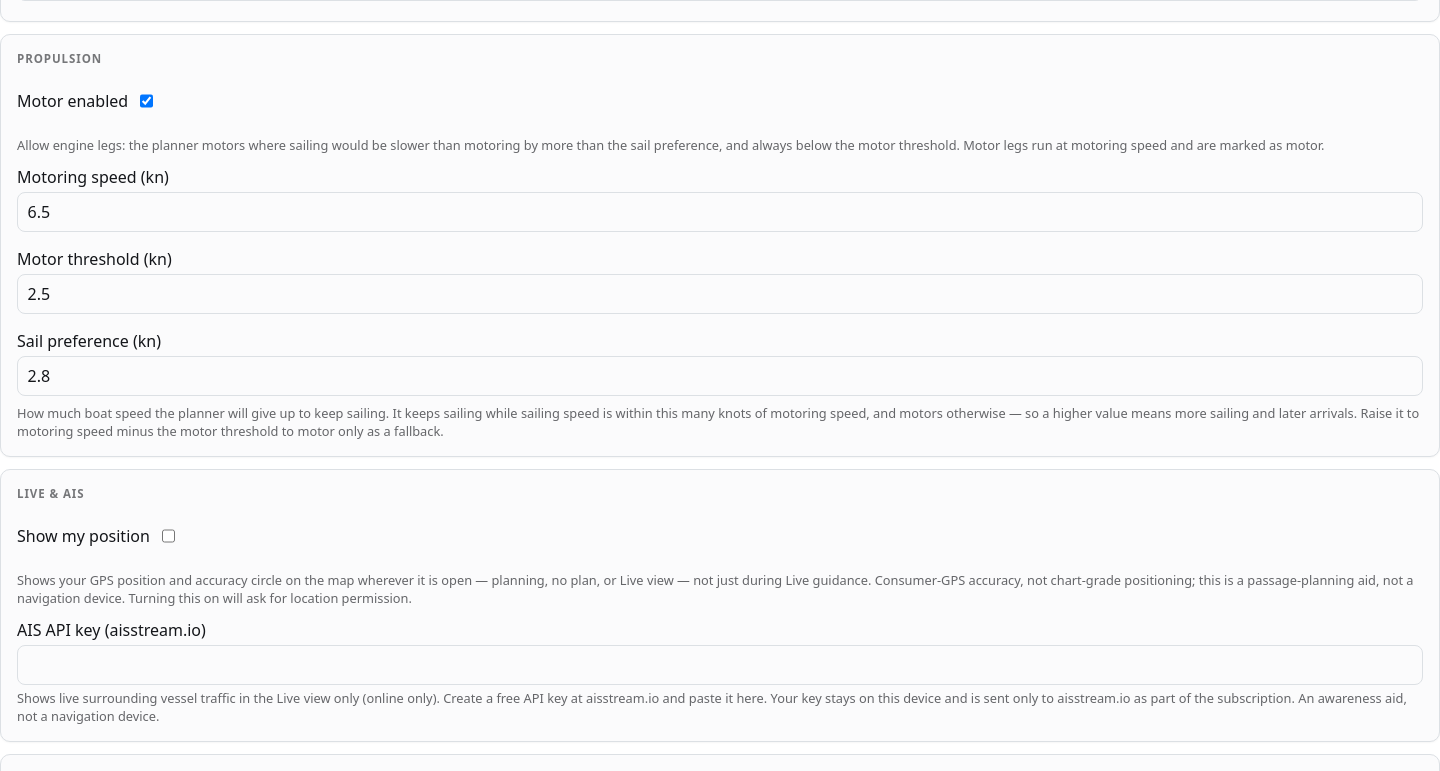
Test: SettingsPanel (#299 Boat tab) › Propulsion group › commits the sail preference on blur and clamps to its 0-10 bounds
(page scrolled)
Replace the text in the number field labelled "Sail preference (kn)" with "1.5": (720,376) [17,356,1423,396]
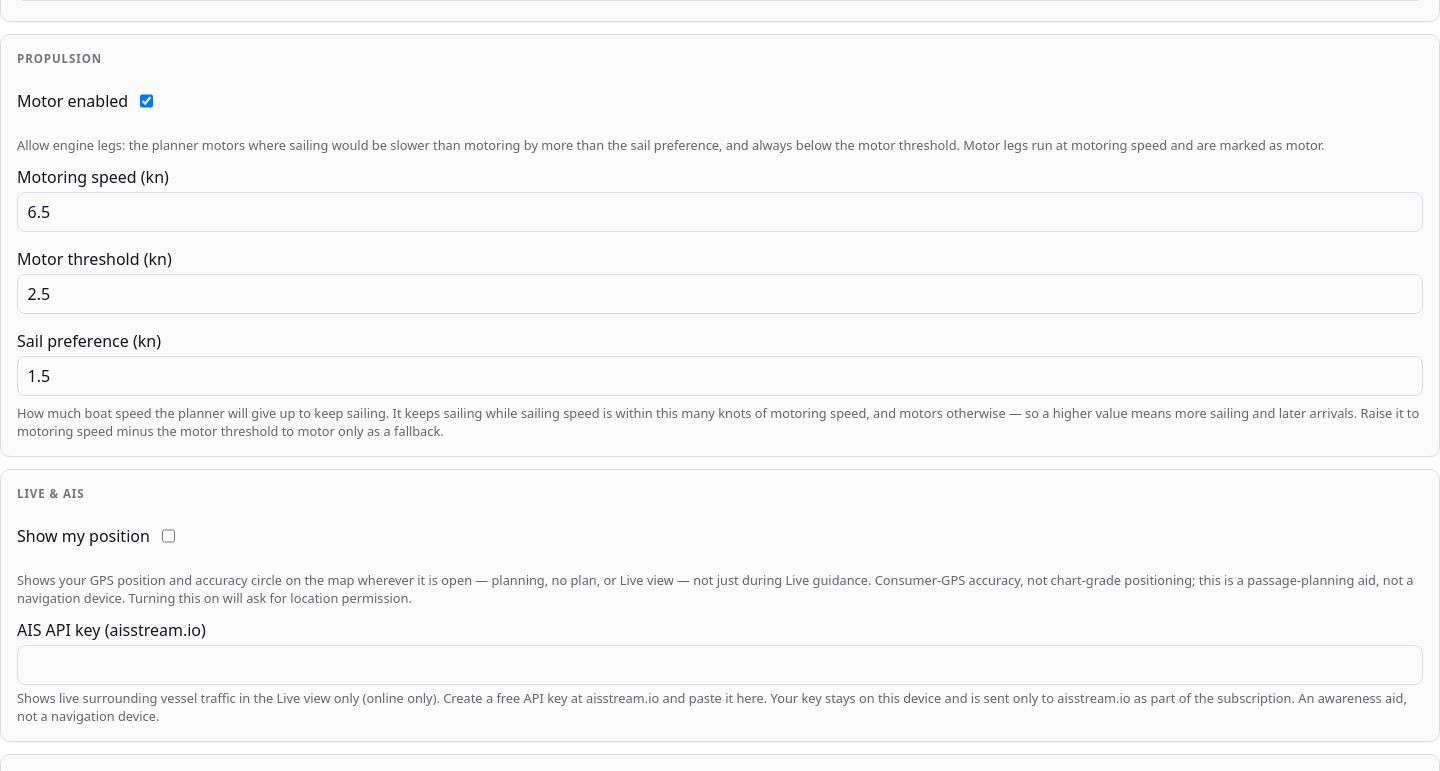
Replace the text in the number field labelled "Sail preference (kn)" with "99": (720,376) [17,356,1423,396]
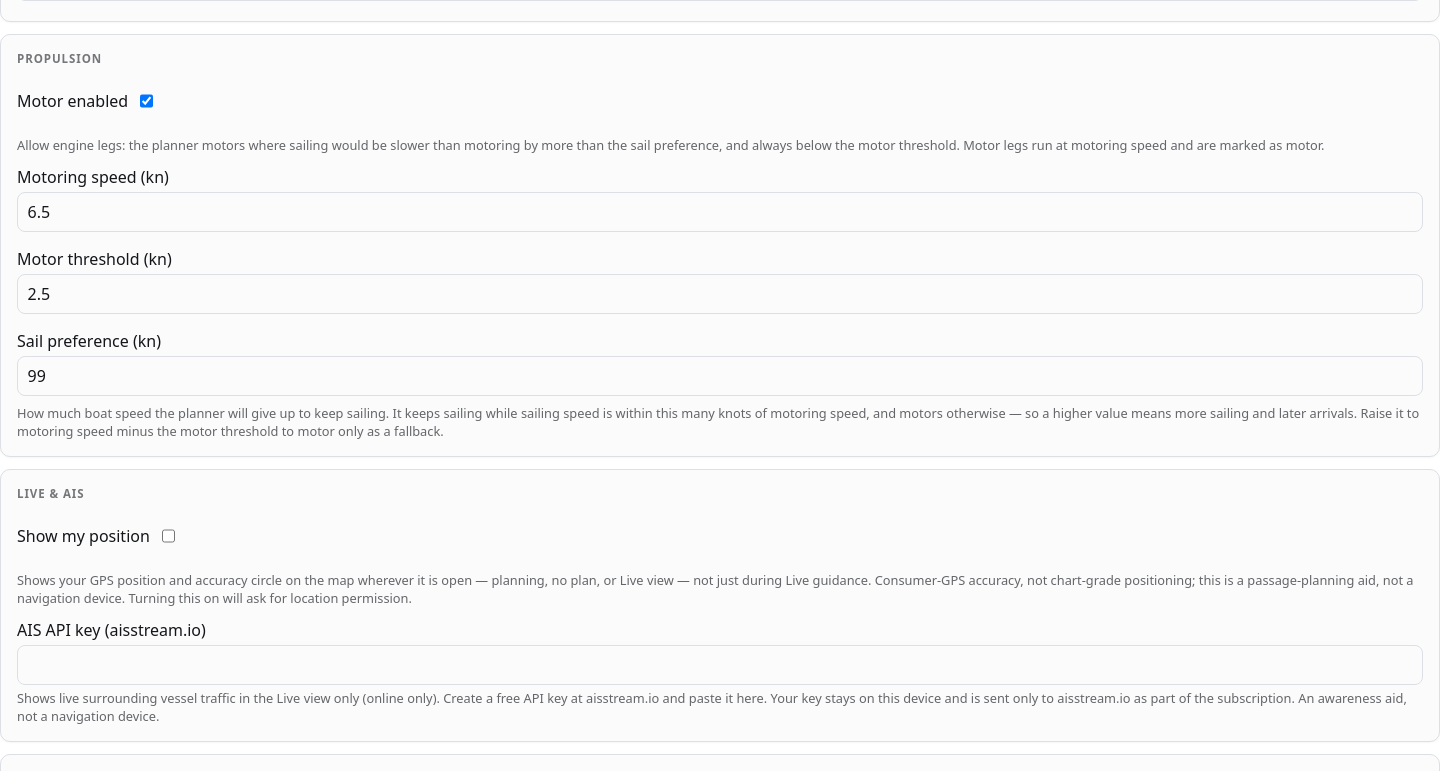
Leave the number field labelled "Sail preference (kn)", box [17,356,1423,396]
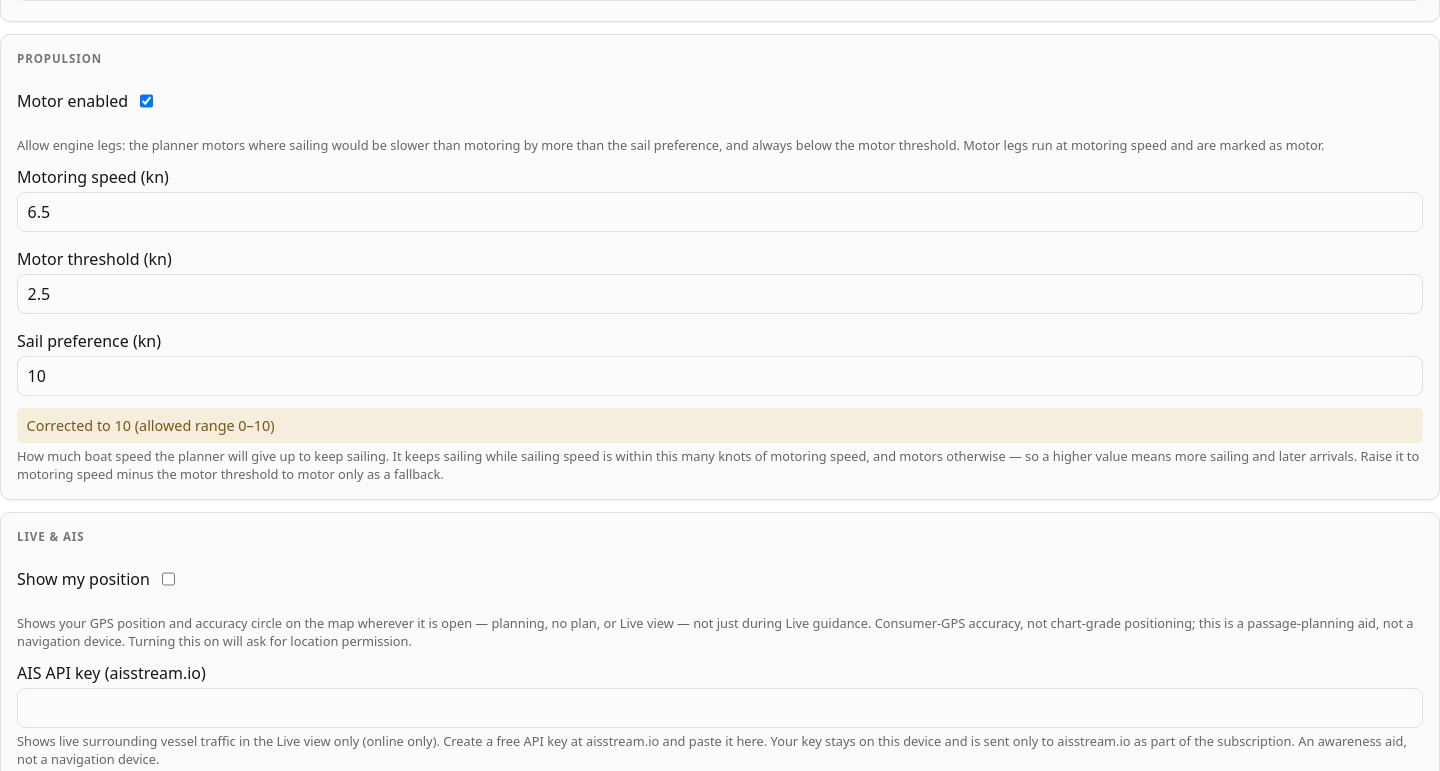
Result: the number field labelled "Sail preference (kn)" holds "10" at [17,356,1423,396]
